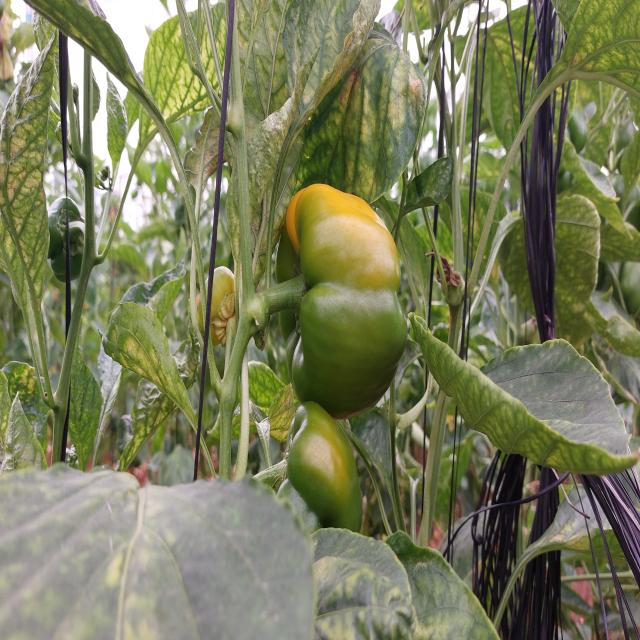GreenishYellow--Can-be-Harvested: (280, 174, 412, 418)
